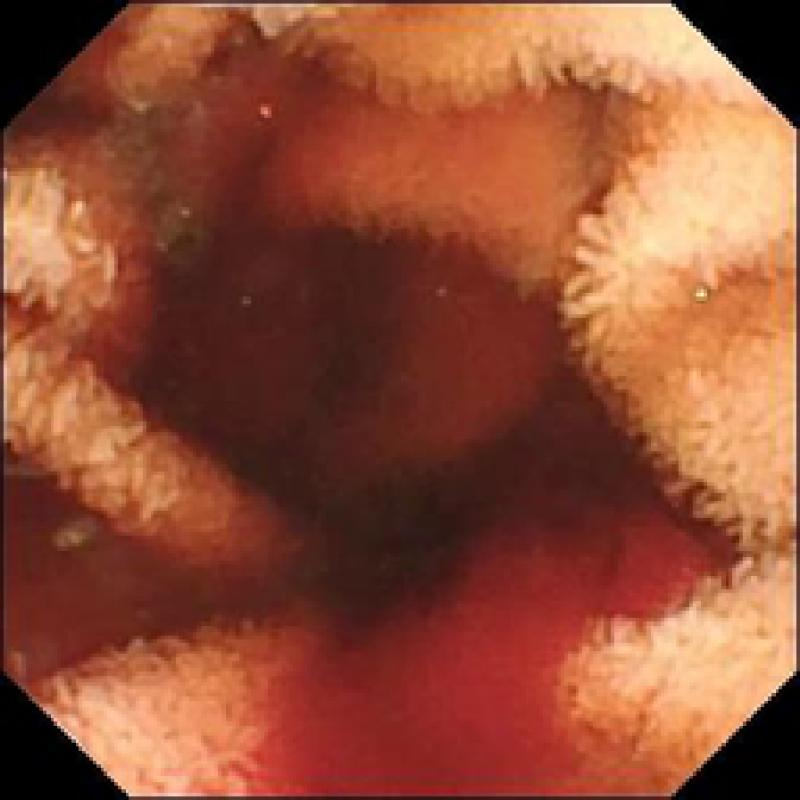bleeding: (275, 521, 732, 800)
